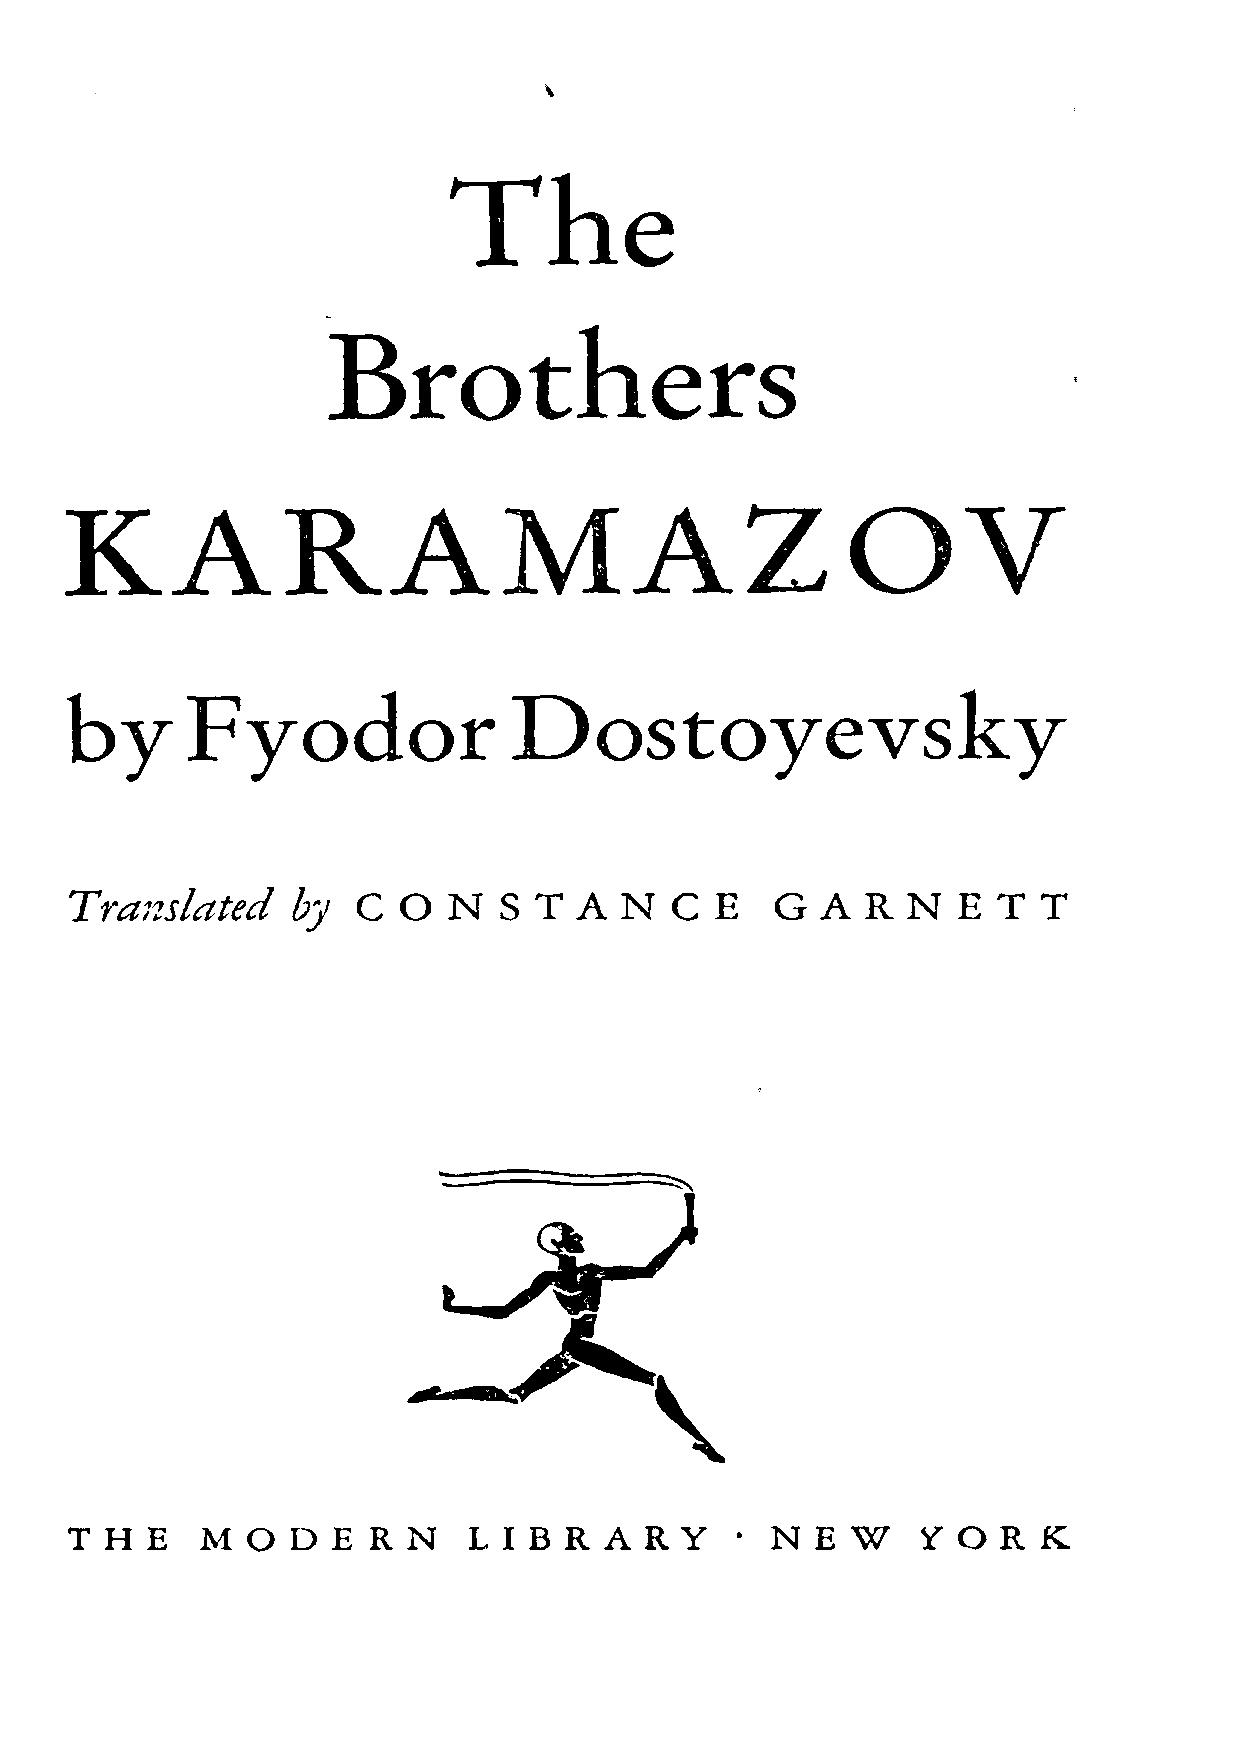author: (67, 688, 1068, 782)
title: (59, 170, 1066, 601)
